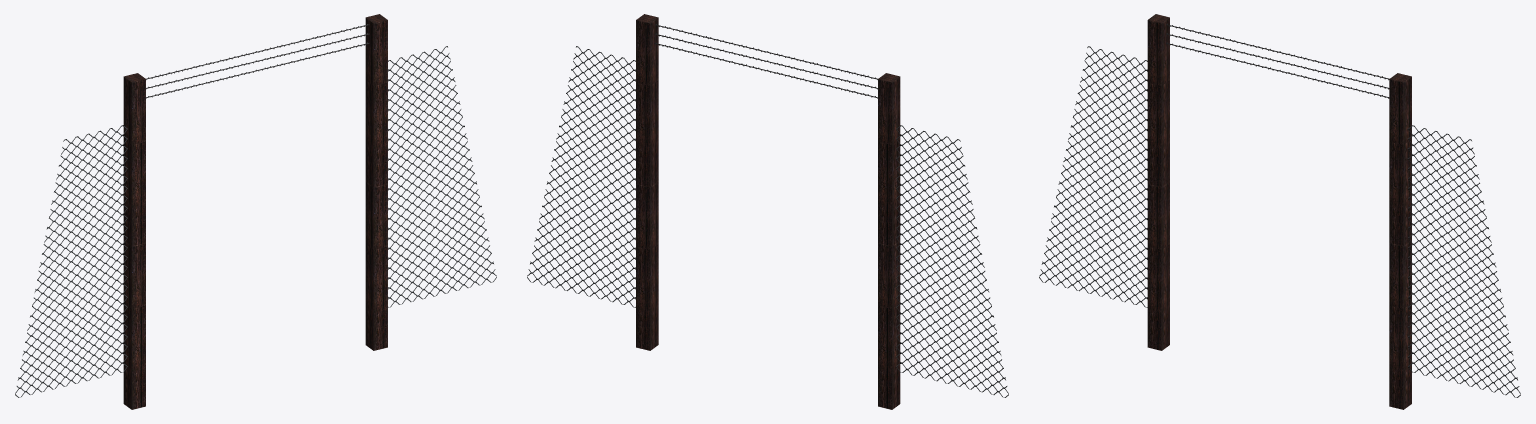
The model's file is M1_Zone2_Cave_Entrance.glb.
3 renders of one model, left to right at view 1: azimuth 30°, elevation 25°; view 2: azimuth 150°, elevation 25°; view 3: azimuth 330°, elevation 25°, orthographic.
Visible parts, largest first — view 1: M1_ZONE2_CAVE_ENTRANCE; view 2: M1_ZONE2_CAVE_ENTRANCE; view 3: M1_ZONE2_CAVE_ENTRANCE.
Boxes of the visible parts, <box> form: M1_ZONE2_CAVE_ENTRANCE: <box>15,14,496,409</box>; M1_ZONE2_CAVE_ENTRANCE: <box>527,14,1008,409</box>; M1_ZONE2_CAVE_ENTRANCE: <box>1039,14,1520,409</box>.
Bounding box in the file's own units: 4.25 × 2.75 × 0.125.
Materials: 3 (3 with a texture image).
